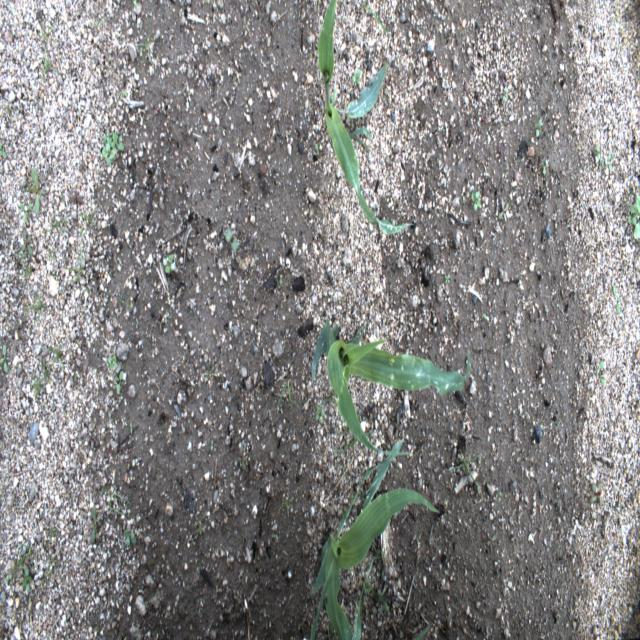crop: (309, 438, 440, 639), (317, 0, 414, 236), (312, 318, 472, 456)
weed: (330, 430, 378, 482), (449, 450, 485, 501), (362, 0, 391, 37), (22, 288, 46, 332), (267, 378, 299, 411), (61, 245, 83, 284), (370, 540, 387, 584), (136, 24, 153, 66), (33, 17, 58, 45), (30, 167, 44, 216), (41, 41, 61, 74), (100, 488, 131, 509), (43, 207, 67, 233), (18, 539, 33, 574), (107, 485, 124, 515), (49, 343, 64, 372), (589, 479, 604, 507), (30, 372, 46, 398), (223, 226, 238, 253), (21, 228, 34, 258), (377, 589, 391, 616), (102, 140, 115, 168), (496, 196, 510, 222), (156, 306, 172, 328), (18, 200, 32, 224), (11, 548, 23, 576), (116, 291, 132, 312), (18, 260, 33, 282), (278, 496, 293, 518), (109, 131, 125, 151), (392, 413, 404, 439), (90, 505, 98, 543), (320, 389, 339, 405), (21, 567, 32, 594), (0, 343, 9, 375), (612, 282, 621, 314), (634, 193, 640, 240), (162, 254, 176, 274), (628, 203, 640, 226), (122, 528, 137, 546), (336, 424, 355, 438), (237, 446, 248, 470), (202, 361, 215, 380), (193, 520, 205, 540), (115, 370, 125, 393), (597, 360, 606, 385), (69, 190, 83, 206), (442, 614, 452, 636), (364, 600, 376, 618), (486, 530, 498, 548), (362, 575, 372, 596), (471, 190, 480, 213), (39, 364, 51, 381), (47, 527, 57, 547), (63, 245, 73, 265), (604, 152, 614, 172), (17, 334, 28, 352), (80, 208, 94, 222), (315, 406, 325, 425), (23, 179, 34, 196), (40, 568, 52, 583), (102, 128, 112, 146), (352, 68, 362, 84), (534, 118, 542, 137), (3, 571, 13, 586), (18, 314, 27, 330), (47, 554, 56, 570), (78, 159, 87, 175), (107, 356, 117, 370), (3, 105, 12, 120), (26, 328, 33, 347), (542, 158, 549, 176), (42, 358, 47, 378), (47, 248, 56, 259), (0, 142, 6, 158), (502, 86, 508, 102), (73, 361, 77, 383), (444, 273, 450, 285), (392, 219, 396, 237), (497, 490, 502, 503), (120, 90, 127, 99), (336, 294, 342, 304), (596, 144, 600, 159), (129, 420, 133, 434), (210, 439, 214, 452), (79, 226, 84, 236), (52, 271, 59, 278), (64, 406, 68, 418), (598, 158, 602, 170), (132, 0, 137, 7), (273, 533, 278, 538)
